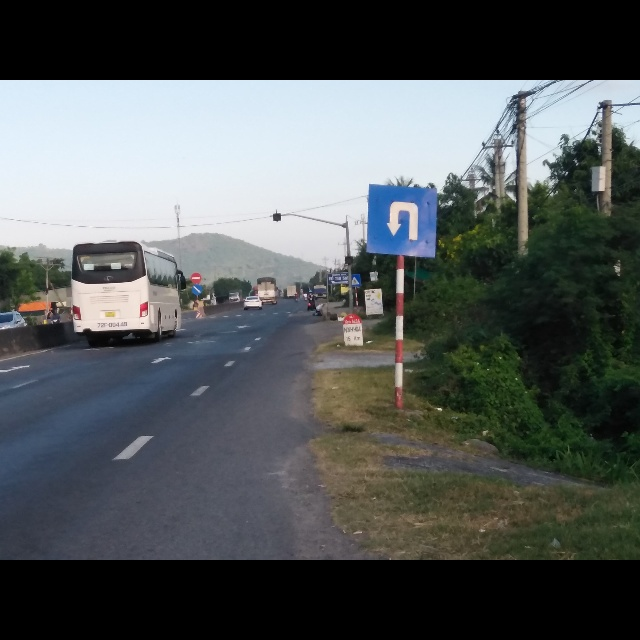Khu vực quay đầu xe: (365, 184, 438, 259)
